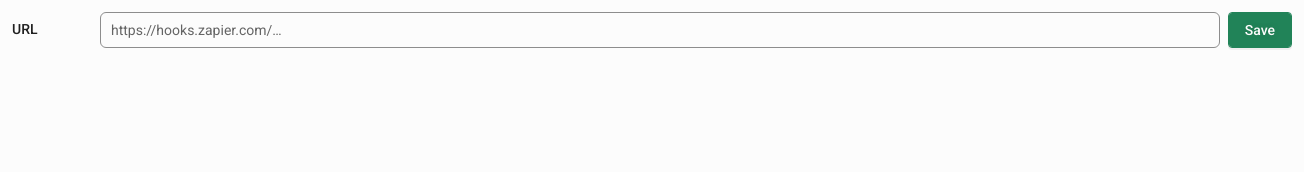
Test: WebhookForm › shows the client URL problem and calls nothing
Type "http://x.example.com" into the field labelled "URL". click: point(660, 30)
box: [100,12,1220,48]
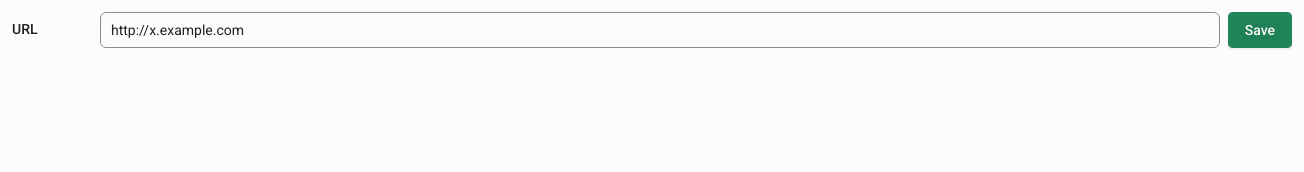
Click the button "Save". click: point(1260, 30)
box: [1228,12,1292,48]
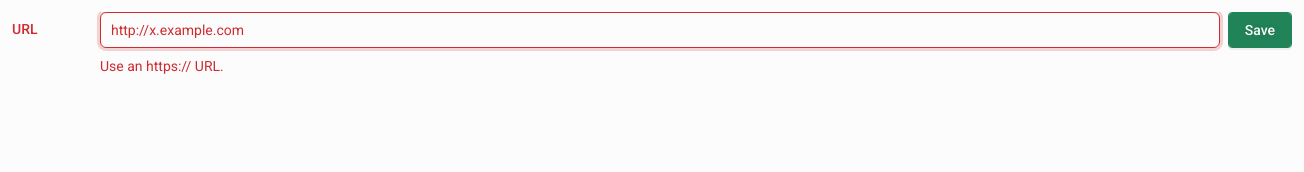
Expected: the text "Use an https:// URL." is shown, [100,58,224,74]
